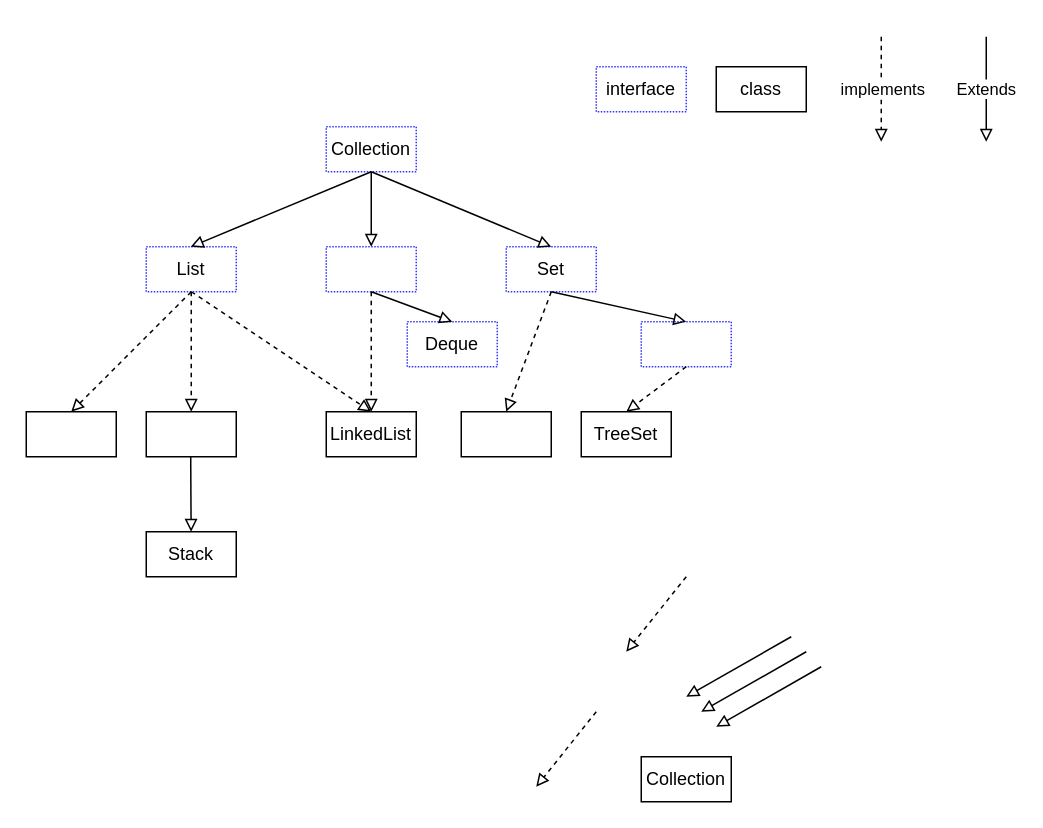
This 1043x828 diagram has some shape labels left out. The shapes that lost their labels are listed below. From the top down, each one's centre as x and y in pixels, then its label:
(370,268): Queue
(685,343): SortedSet
(70,433): ArrayList
(190,433): Vector
(505,433): HashSet
